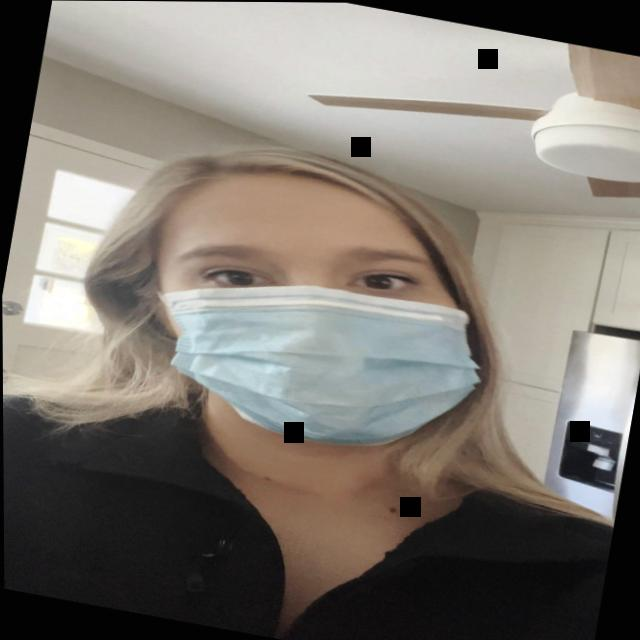Mask: (90, 140, 531, 484)
